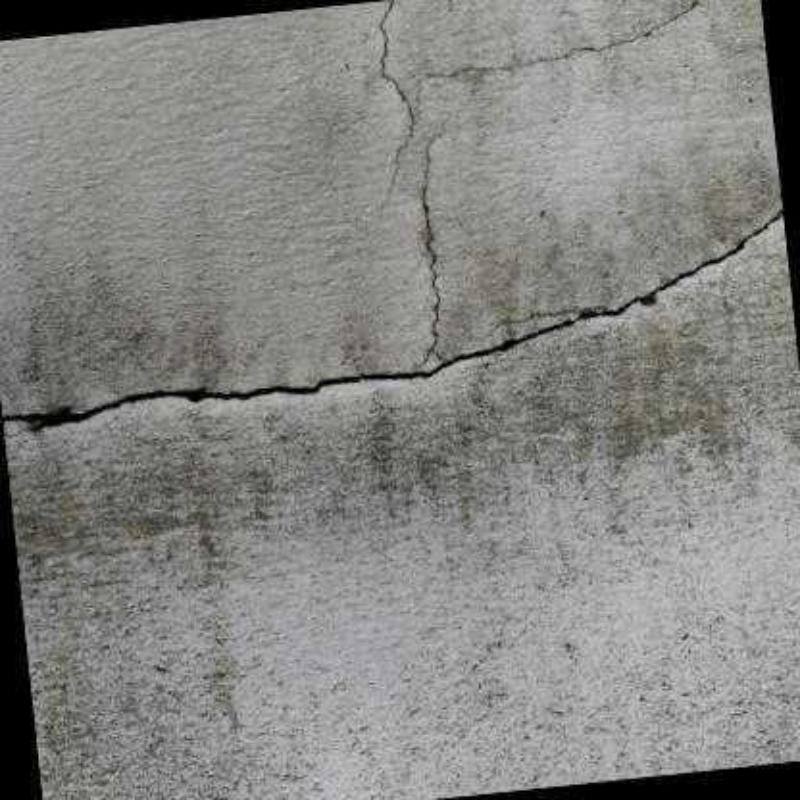crack: (0, 203, 783, 430), (429, 0, 707, 78), (371, 0, 420, 189), (411, 134, 446, 363)
